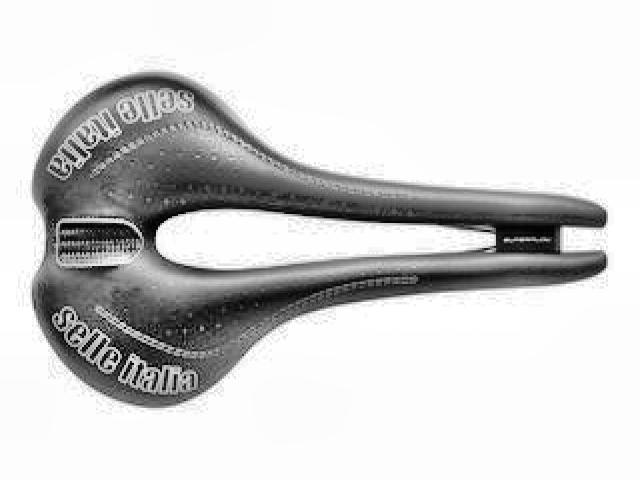saddle: (26, 65, 608, 410)
